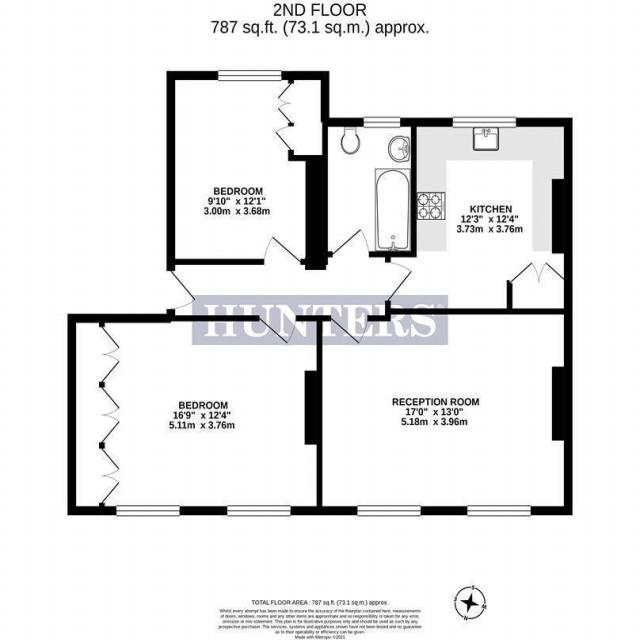DOOR: (165, 268, 199, 312), (257, 314, 298, 347), (263, 235, 301, 265), (332, 228, 370, 258), (330, 315, 368, 345), (384, 262, 413, 301)
ROOM: (303, 308, 573, 516), (67, 314, 324, 519), (385, 115, 574, 314), (166, 69, 329, 265)
WINDOW: (226, 504, 293, 517), (451, 116, 518, 129), (115, 504, 181, 517), (466, 504, 532, 517), (218, 69, 282, 81), (357, 505, 421, 517), (362, 115, 402, 129)
